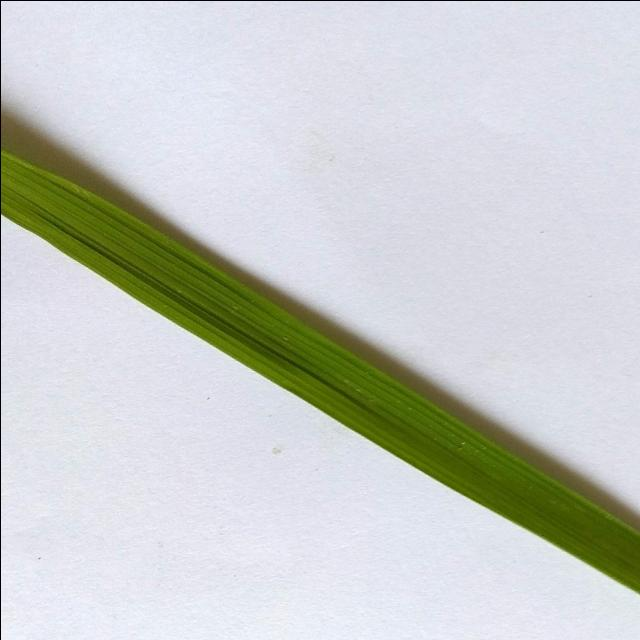healthy: (0, 143, 640, 599)
